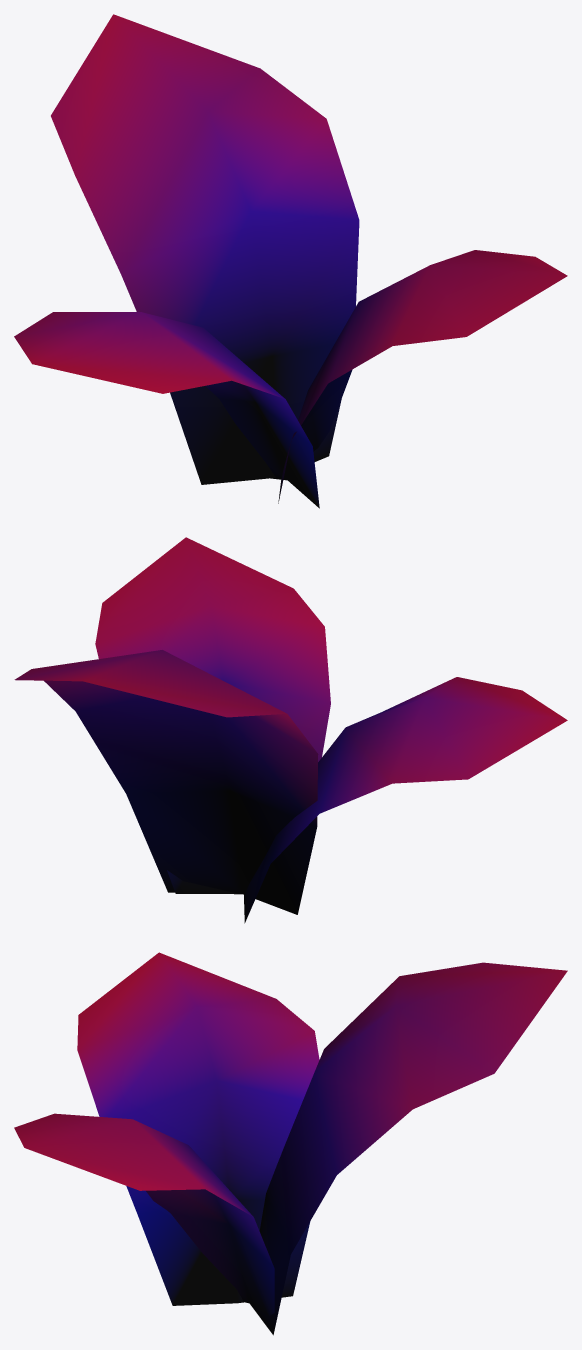
The model's file is env_autumn_fern.fbx.
3 renders of one model, top to bottom at view 1: azimuth 30°, elevation 25°; view 2: azimuth 150°, elevation 25°; view 3: azimuth 270°, elevation 25°, orthographic. The views are drawn at different scales.
Visible parts, largest first — view 1: env_autumn_fern_geo; view 2: env_autumn_fern_geo; view 3: env_autumn_fern_geo.
Part boxes in pixels (x1,y1,x2,y2): env_autumn_fern_geo: (14, 14, 567, 508); env_autumn_fern_geo: (14, 537, 567, 923); env_autumn_fern_geo: (14, 952, 567, 1335).
Bounding box in the file's own units: 66.53 × 45.01 × 66.88.
